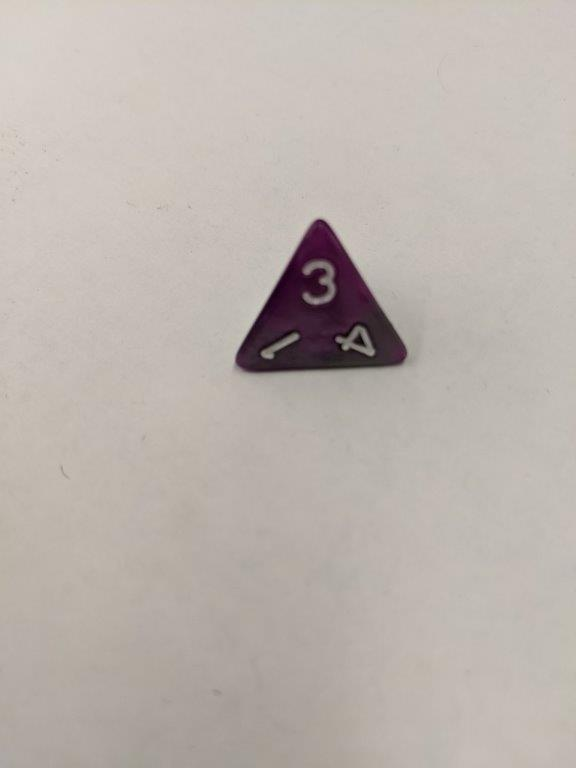d4-3: (231, 215, 414, 379)
